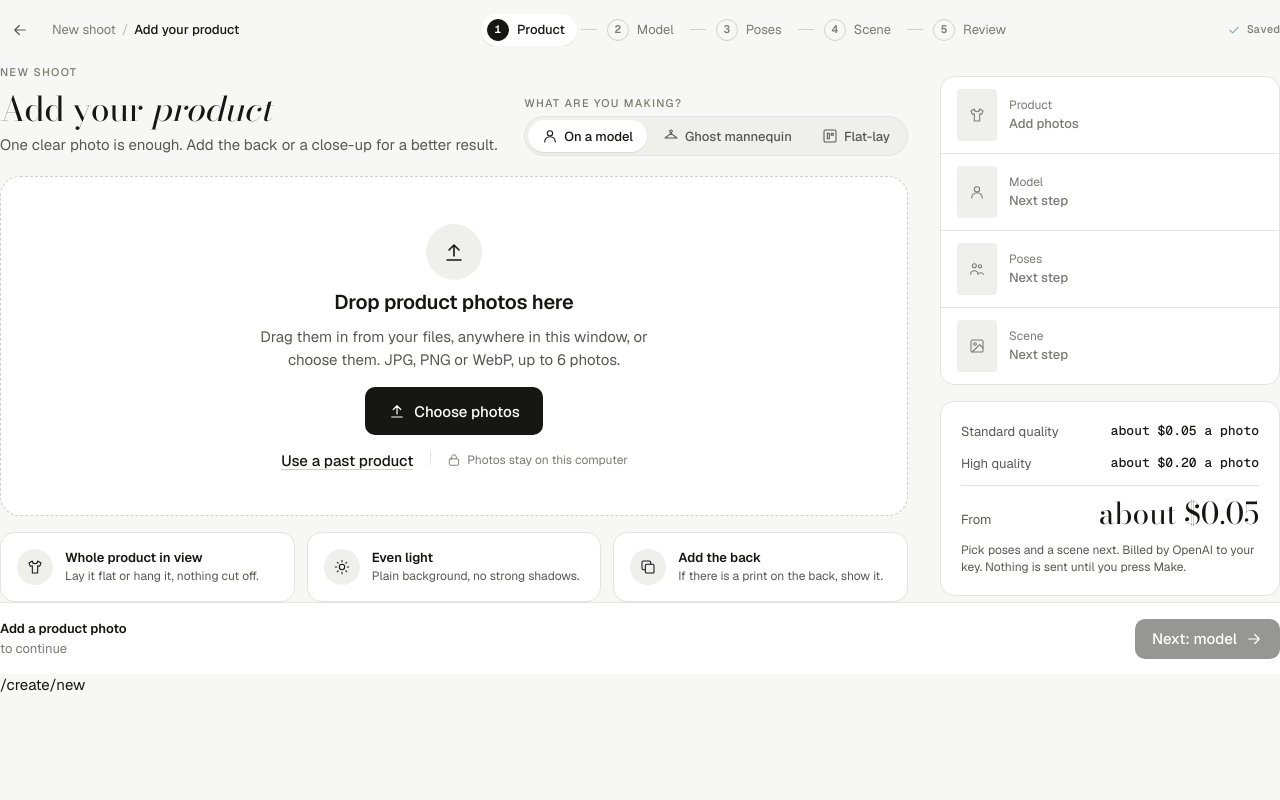
Test: New shoot with this model › keeps the model when a past product is picked, and the summary shows it at once
Click the button "Use a past product".
click(347, 460)  # box [280,452,414,469]
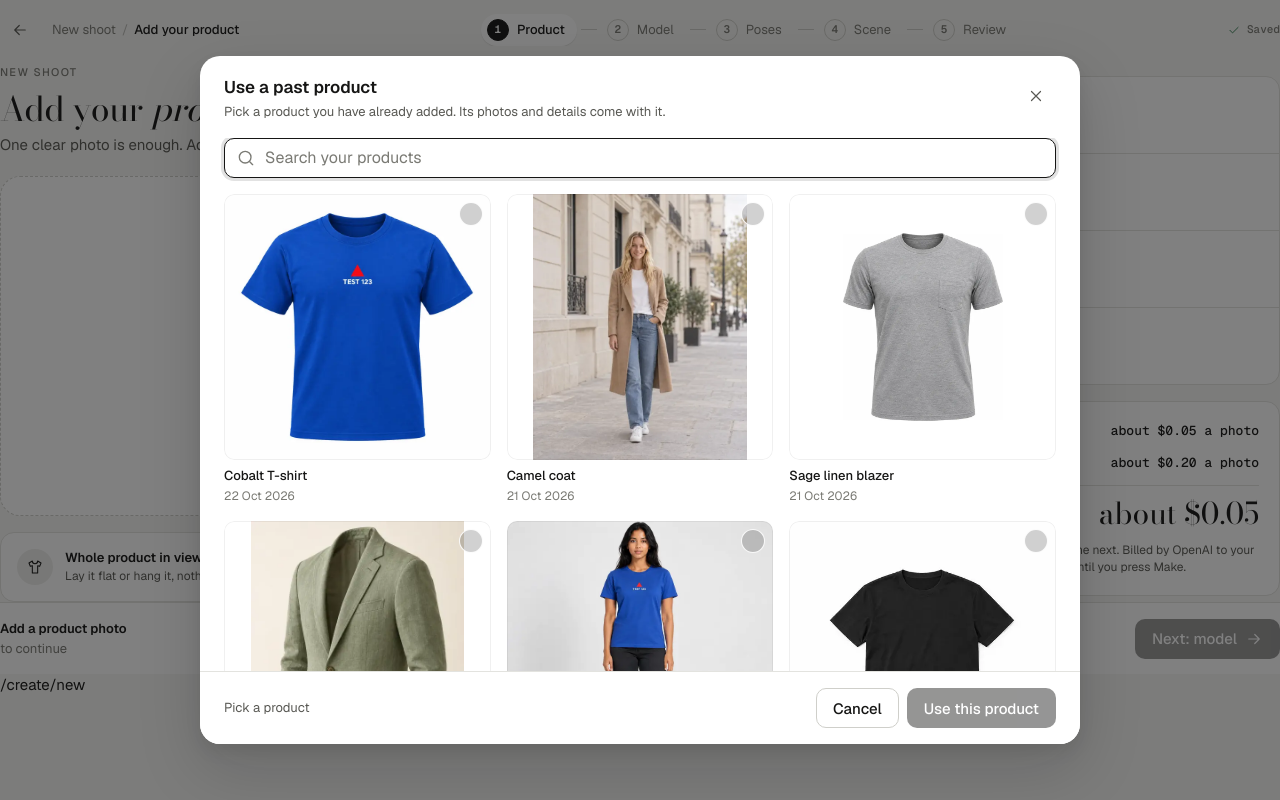
Check: the button with class "selectable" showing "Cobalt T-shirt 22 Oct 2026" is shown
Click the button with class "selectable" showing "Cobalt T-shirt 22 Oct 2026".
click(357, 349)  # box [224,194,491,505]
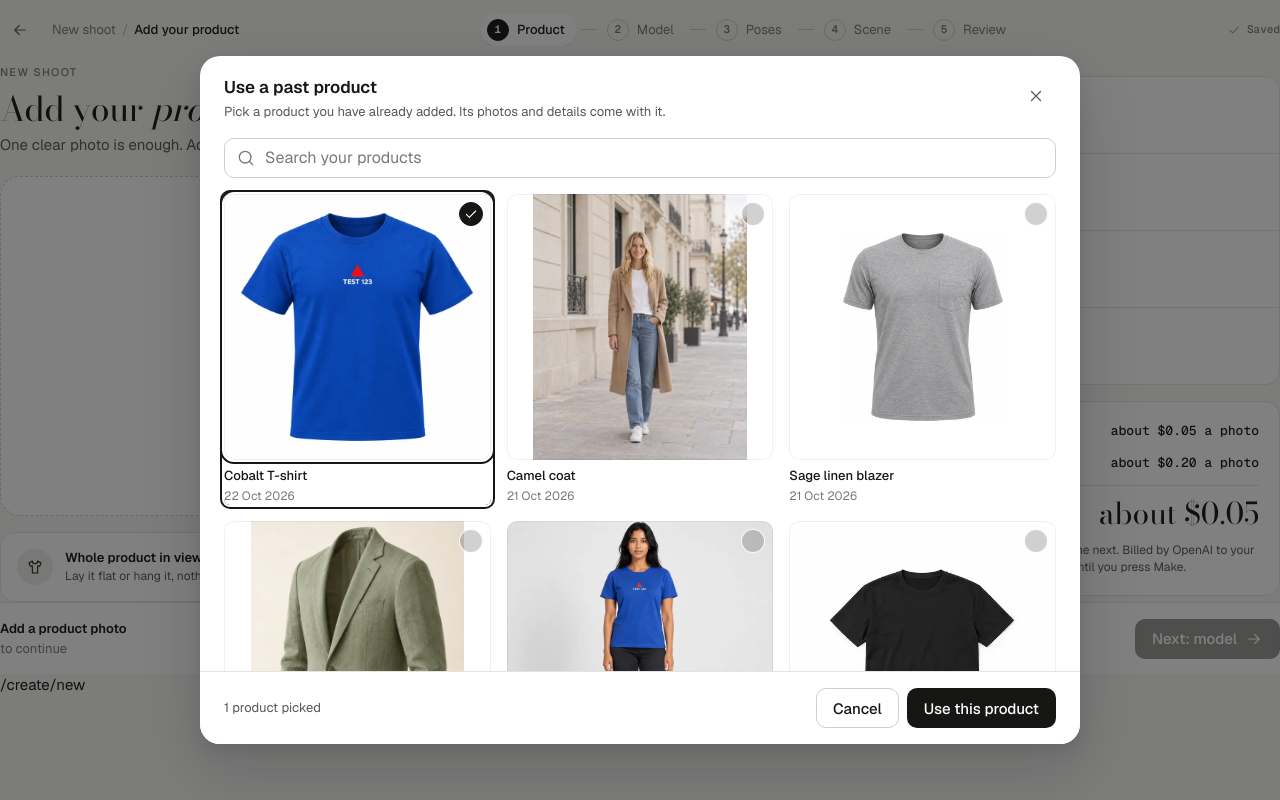
Click the button "Use this product".
click(981, 708)  # box [907,688,1056,728]
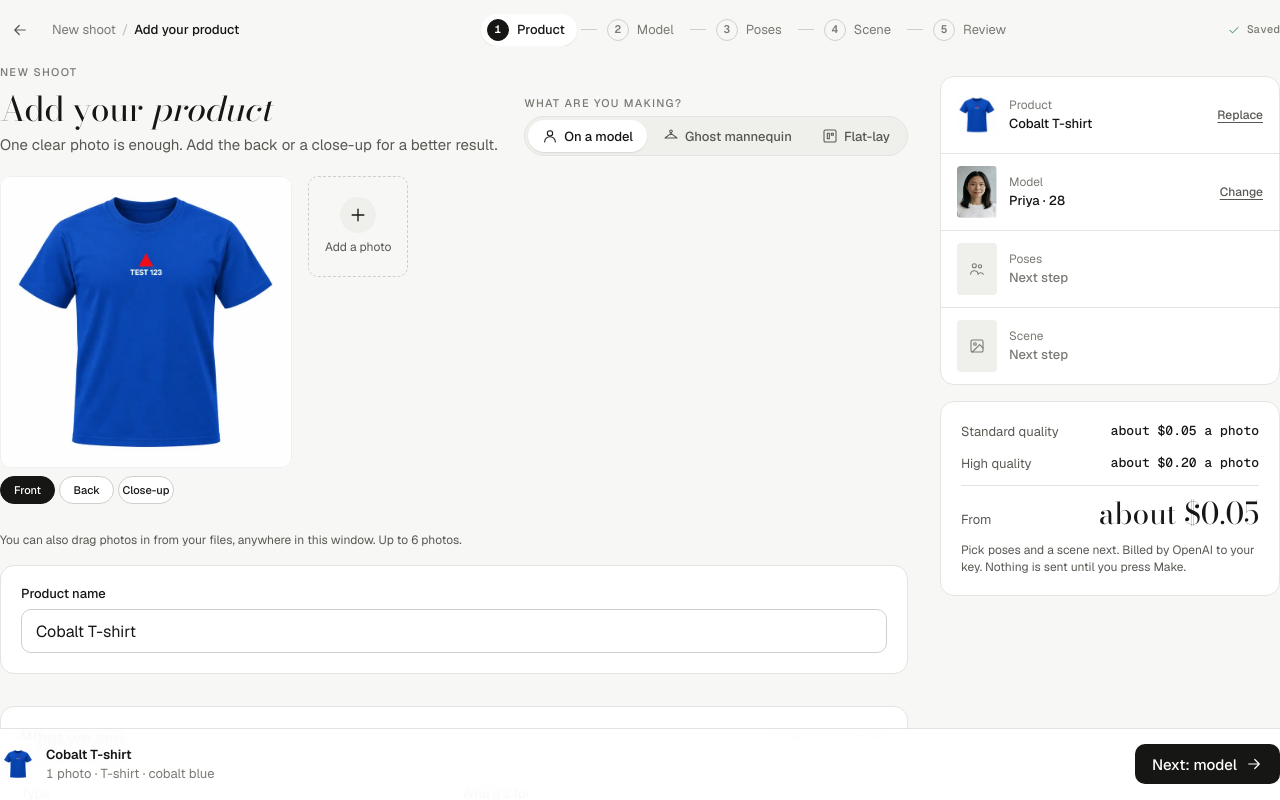
Check: the text "Priya · 28" is shown, box [1009,192,1065,209]
